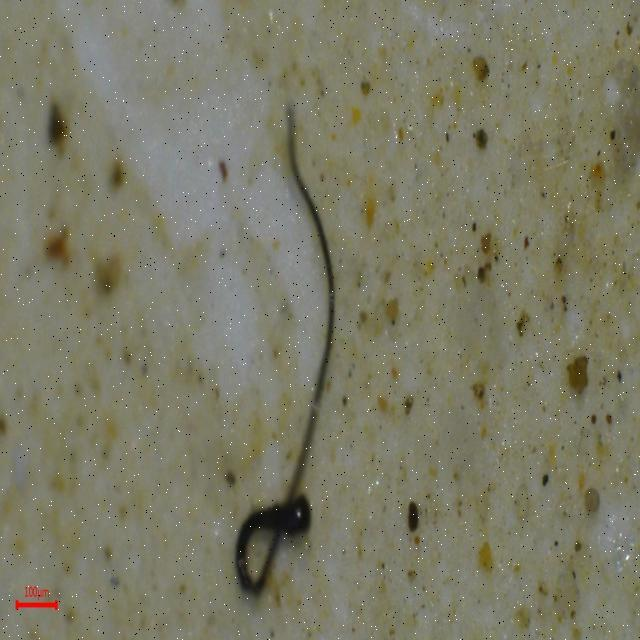fibers: (227, 104, 361, 600)
